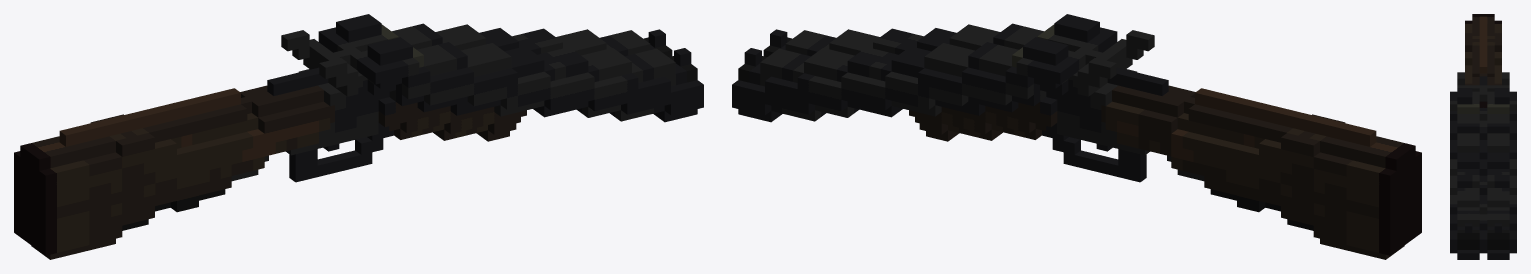
File: ssg1.obj
The picture shows the model from 3 angles, left to right: view 1: azimuth 30°, elevation 25°; view 2: azimuth 150°, elevation 25°; view 3: azimuth 270°, elevation 25°; orthographic projection. The views are drawn at different scales.
Visible parts, largest first — view 1: state1-flat; view 2: state1-flat; view 3: state1-flat.
Boxes of the visible parts, x1,y1,x2,y2 form: state1-flat: (14, 14, 703, 259); state1-flat: (732, 14, 1421, 259); state1-flat: (1450, 14, 1516, 259).
Bounding box in the file's own units: 115 × 23.39 × 17.55.
